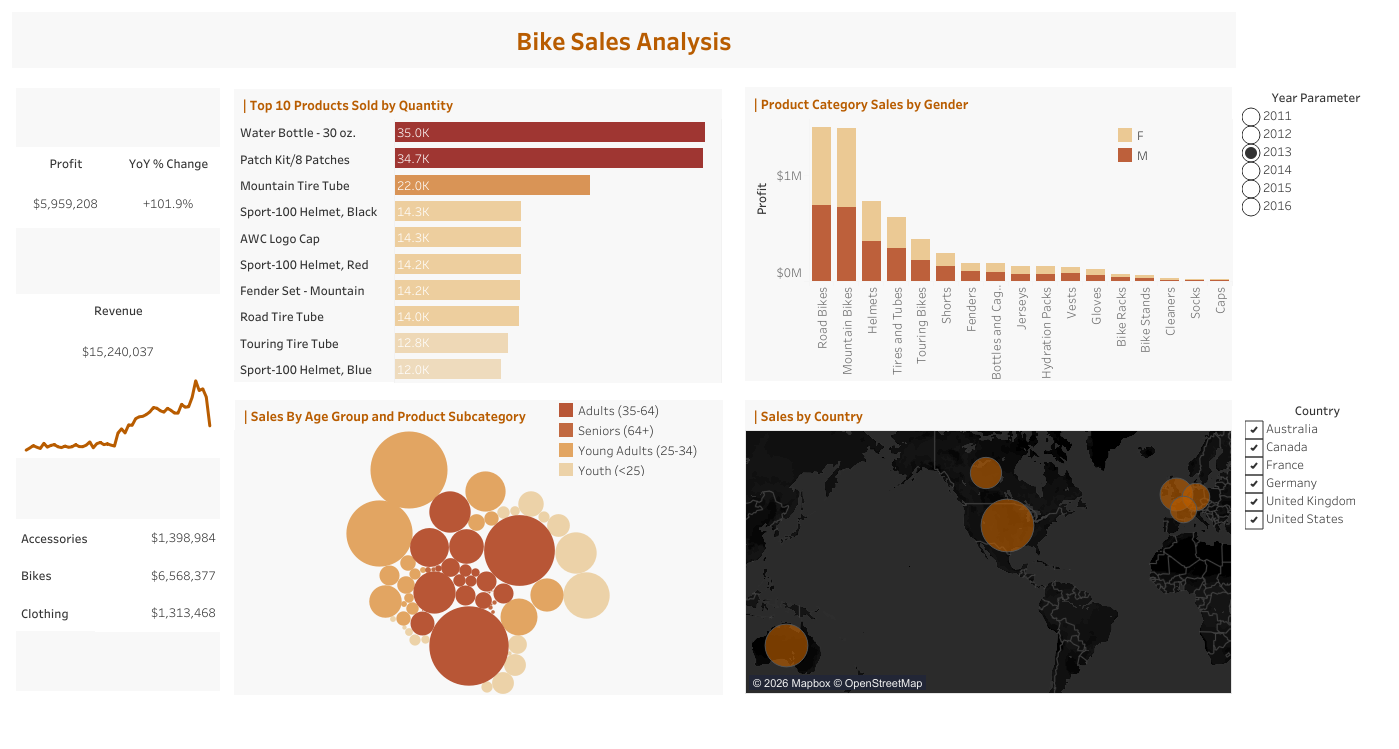

The dashboard page shown, as its layout file describes it:
{"tool":"tableau","page":{"name":"Sales Dashboard","canvas":[1400,750],"ordinal":0},"visuals":[{"type":"title","box":[8,8,1232,64]},{"type":"blank","box":[8,72,1232,670]},{"type":"parameter","param":"[Parameters].[Parameter 1]","box":[1242,87,148,191]},{"type":"text","box":[744.6,87.1,487.4,31.8]},{"type":"text","box":[234.3,88.7,487.4,30.1]},{"type":"worksheet","title":"Top 10 Product","mark":"Bar","rows":["Product"],"box":[234.3,118.9,487.4,263.7]},{"type":"worksheet","title":"Sub Category Bar Chart","mark":"Automatic","rows":["Profit"],"cols":["Sub_Category"],"box":[744.6,118.9,487.4,262]},{"type":"legend","title":"Sub Category Bar Chart","param":"[federated.05crn3c13ra9te1fzpt3s0usb1qv].[none:Customer_Gender:nk]","box":[1115,125.5,115,51.8]},{"type":"worksheet","title":"Profit Card","mark":"Automatic","cols":["Calculation_1658617007046657"],"box":[15,147,102,80]},{"type":"worksheet","title":"YoY % Change","mark":"Automatic","cols":["Calculation_1658617011986440"],"box":[117,147,103,80]},{"type":"worksheet","title":"Revenue Card","mark":"Automatic","cols":["Calculation_1658617014472713"],"box":[15,294,207,82]},{"type":"worksheet","title":"Revenue Line Chart","mark":"Automatic","rows":["Revenue"],"cols":["Date"],"box":[15,375,205,82]},{"type":"filter","title":"Age Group Bubble Chart","param":"[federated.05crn3c13ra9te1fzpt3s0usb1qv].[none:Country:nk]","box":[1245,399.5,145,218.2]},{"type":"legend","title":"Age Group Bubble Chart","param":"[federated.05crn3c13ra9te1fzpt3s0usb1qv].[none:Age_Group:nk]","box":[556,400,164,76]},{"type":"text","box":[235.1,400.1,487.4,30.1]},{"type":"text","box":[744.6,400.1,487.4,30.1]},{"type":"worksheet","title":"Age Group Bubble Chart","mark":"Circle","box":[234.3,430.2,487.4,263.7]},{"type":"worksheet","title":"Map","mark":"Automatic","box":[744.6,430.2,487.4,263.7]},{"type":"worksheet","title":"Cost Card","mark":"Automatic","rows":["Product_Category"],"box":[15,519,205,112]}]}

Visuals, with their boxes in screenshot pixels (x1, y1, x2, y2), scaled from the page's 1400x750 canvas onto the 1399x749 screenshot:
title: BBox(8, 8, 1239, 72)
blank: BBox(8, 72, 1239, 741)
parameter: BBox(1241, 87, 1389, 278)
text: BBox(744, 87, 1231, 119)
text: BBox(234, 89, 721, 119)
"Top 10 Product" worksheet (Bar marks): BBox(234, 119, 721, 382)
"Sub Category Bar Chart" worksheet: BBox(744, 119, 1231, 380)
"Sub Category Bar Chart" legend: BBox(1114, 125, 1229, 177)
"Profit Card" worksheet: BBox(15, 147, 117, 227)
"YoY % Change" worksheet: BBox(117, 147, 220, 227)
"Revenue Card" worksheet: BBox(15, 294, 222, 375)
"Revenue Line Chart" worksheet: BBox(15, 374, 220, 456)
"Age Group Bubble Chart" filter: BBox(1244, 399, 1389, 617)
"Age Group Bubble Chart" legend: BBox(556, 399, 719, 475)
text: BBox(235, 400, 722, 430)
text: BBox(744, 400, 1231, 430)
"Age Group Bubble Chart" worksheet (Circle marks): BBox(234, 430, 721, 693)
"Map" worksheet: BBox(744, 430, 1231, 693)
"Cost Card" worksheet: BBox(15, 518, 220, 630)
